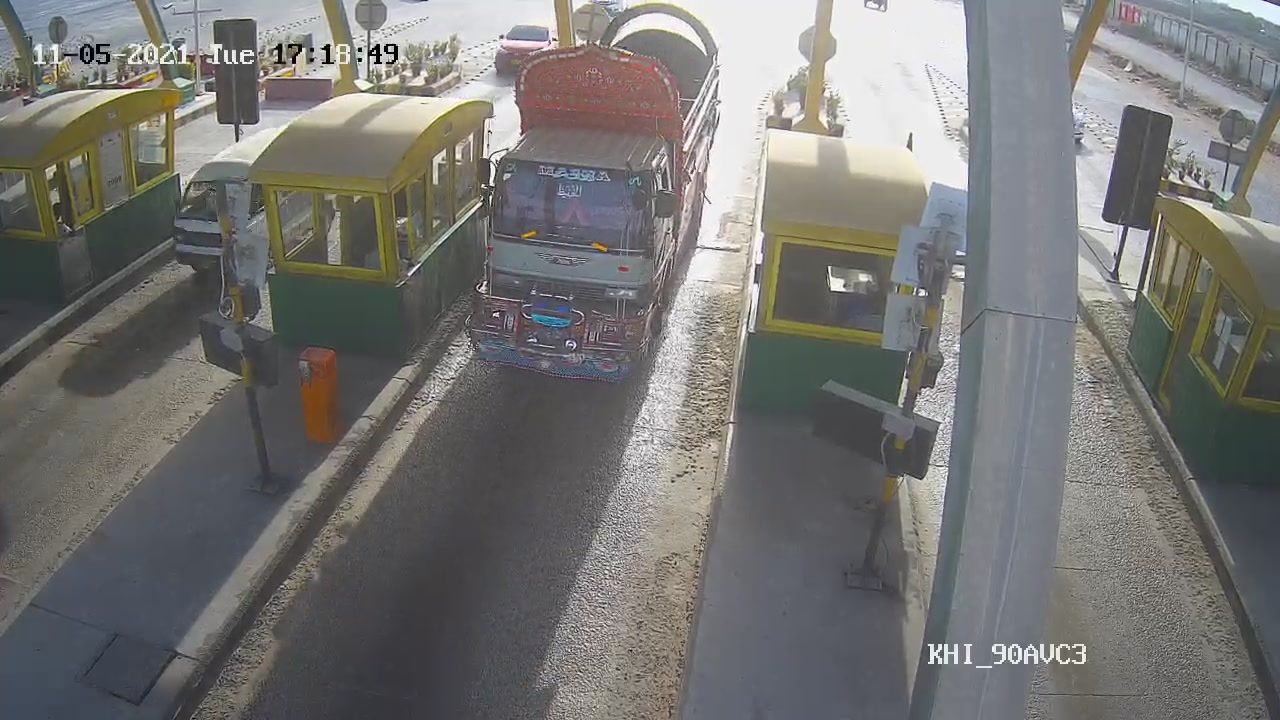F5: (463, 1, 726, 380)
